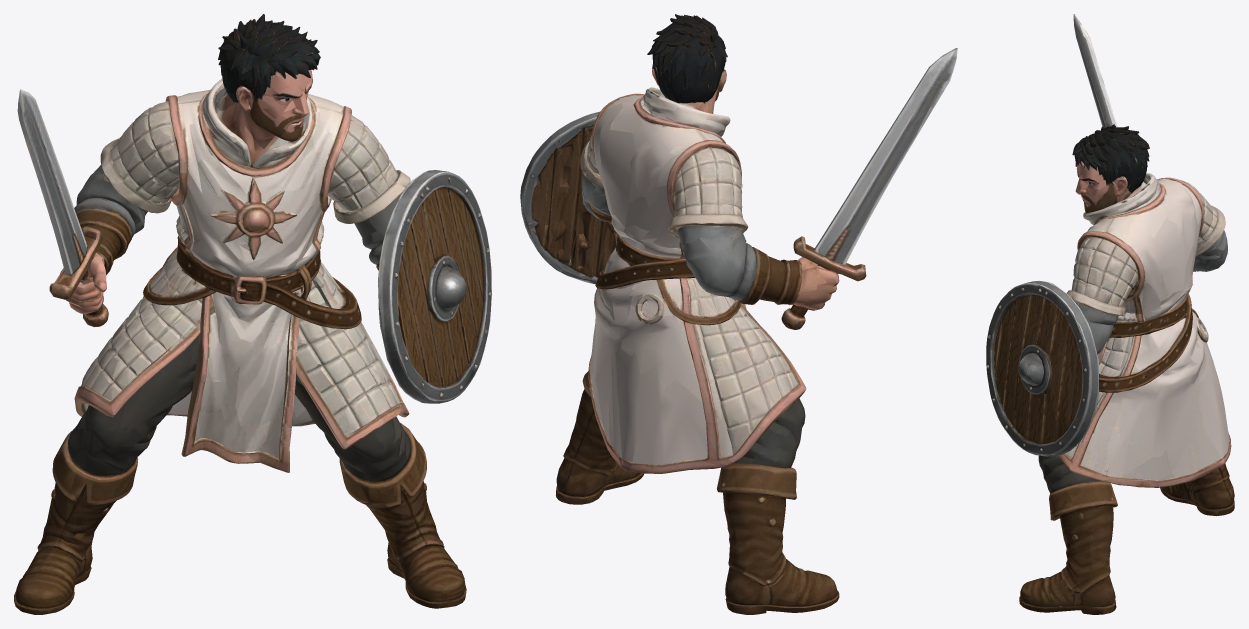
The model's file is squire_white.glb.
3 views of the same model, side by side, from view 1: azimuth 30°, elevation 25°; view 2: azimuth 150°, elevation 25°; view 3: azimuth 270°, elevation 25° (orthographic). The views are drawn at different scales.
Bounding box in the file's own units: 1.62 × 1.9 × 0.9656.
1 material, 1 textured.
